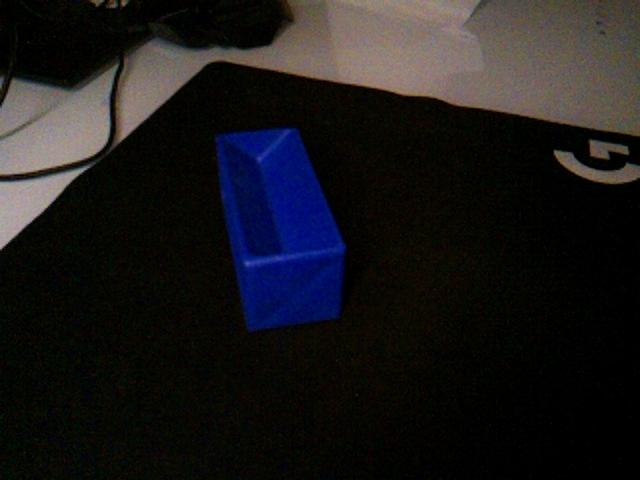blue: (212, 125, 349, 333)
